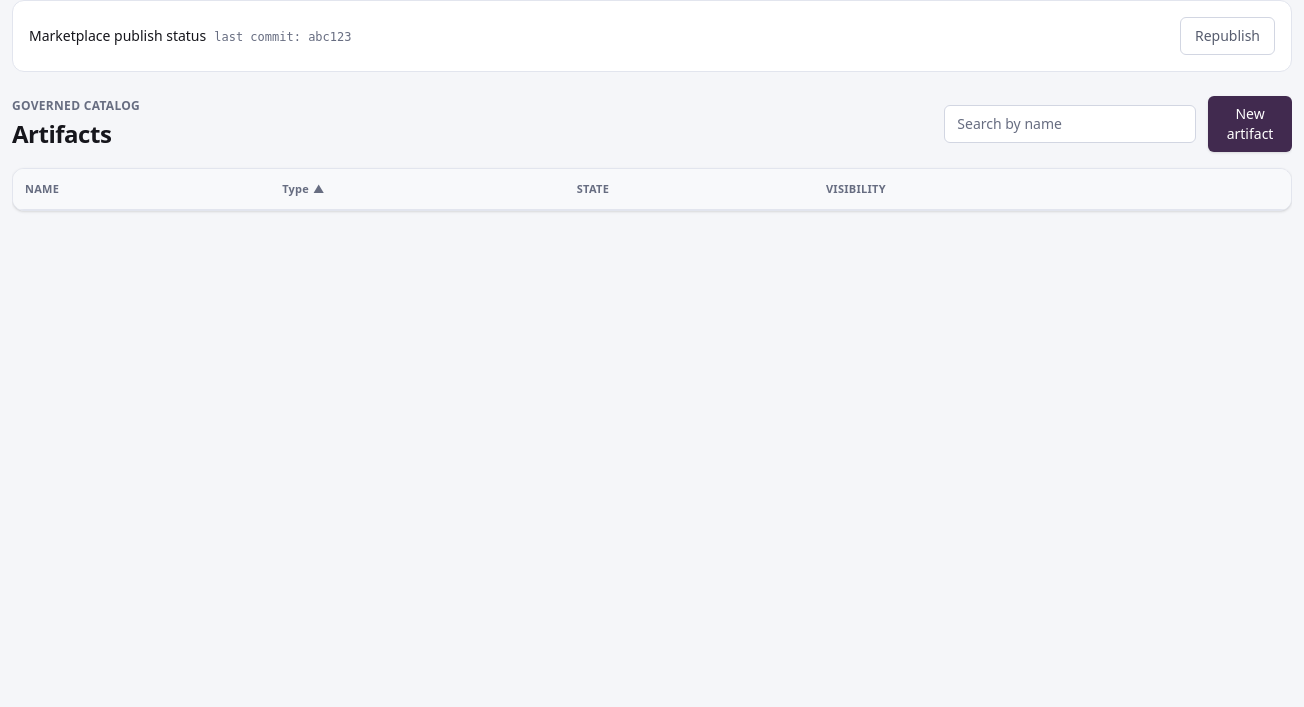
Test: create: selecting type=subagent reveals memoryScope select
This screenshot has width=1304, height=707.
Click the button "New artifact" at (1250, 124), box [1208, 96, 1292, 152]
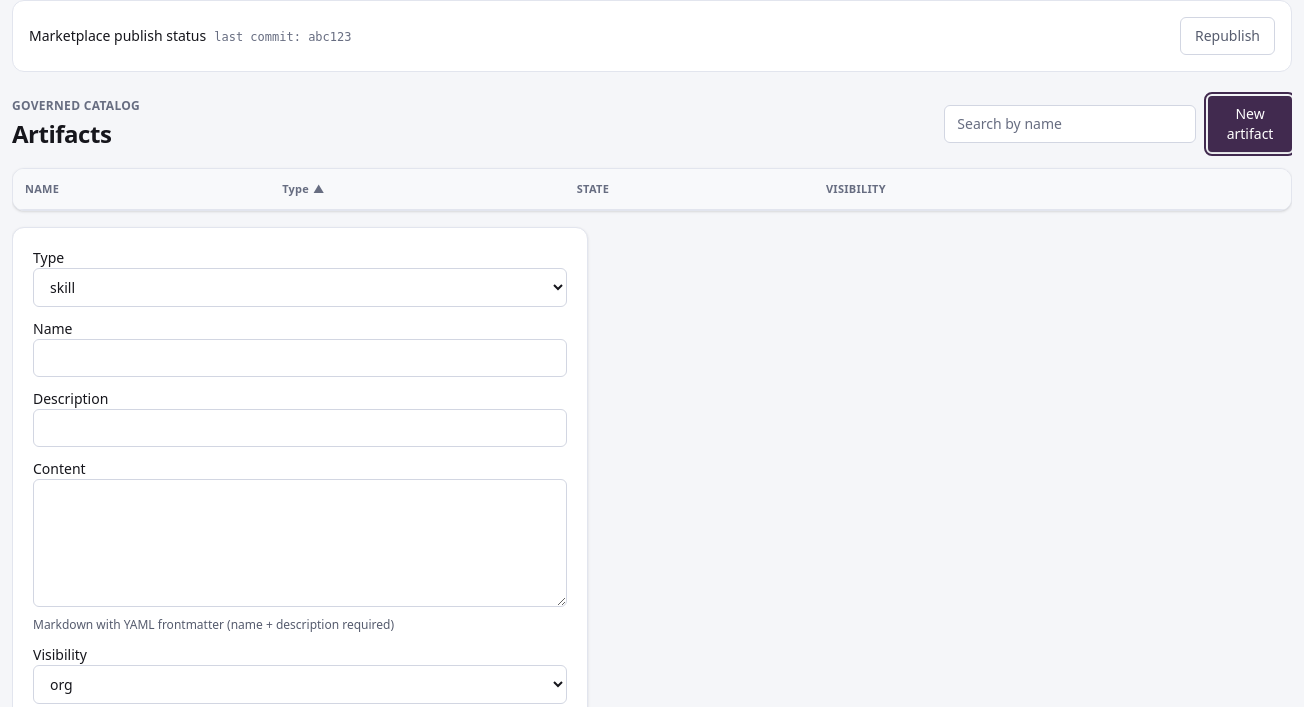
Check: the field labelled "memory scope" is not shown
// switch type to subagent
Select "subagent" in the dropdown labelled "Type" at (300, 287), box [33, 268, 567, 307]
(page scrolled)
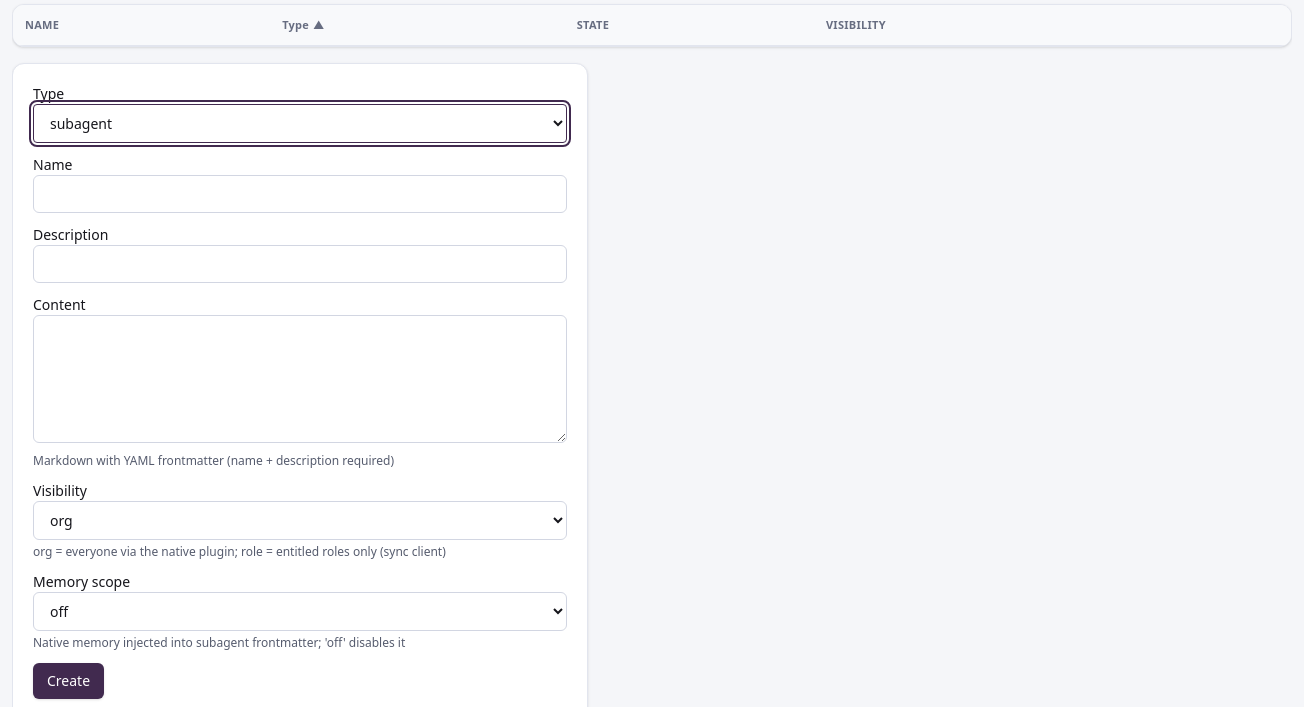
Check: the dropdown labelled "Memory scope" is shown, box [33, 592, 567, 631]
